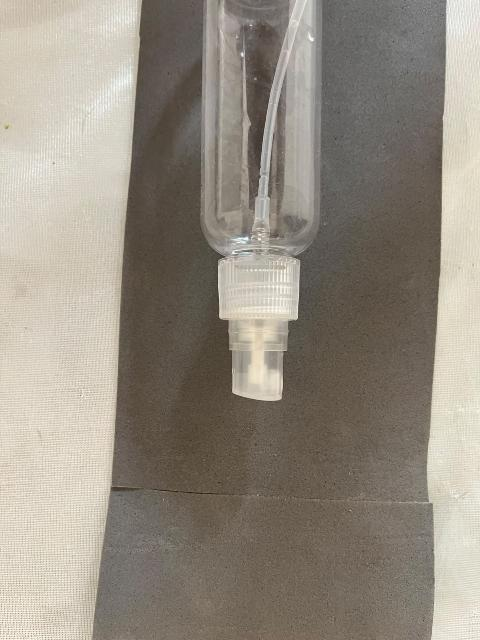PET: (130, 0, 401, 400)
